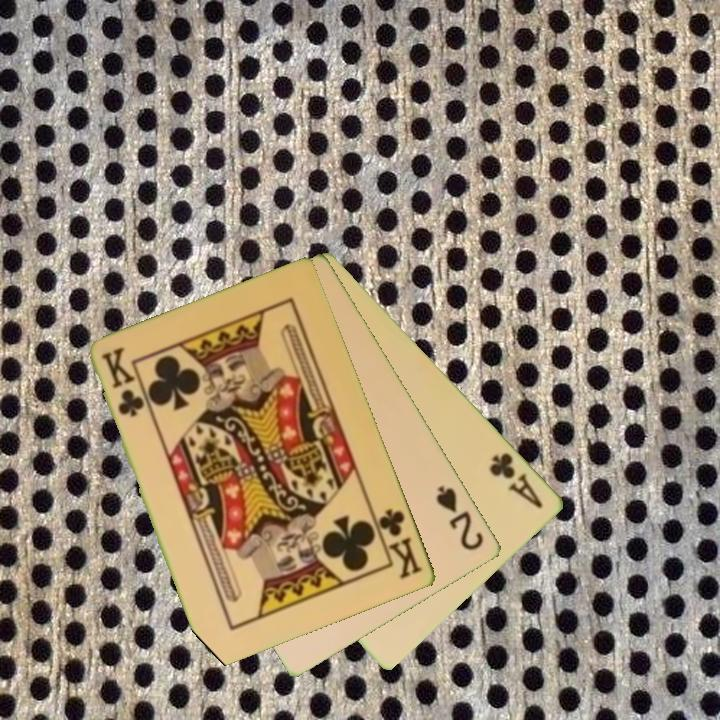2s: (432, 482, 487, 554)
Ac: (486, 449, 547, 512)
Kc: (370, 505, 426, 582), (98, 345, 146, 421)
